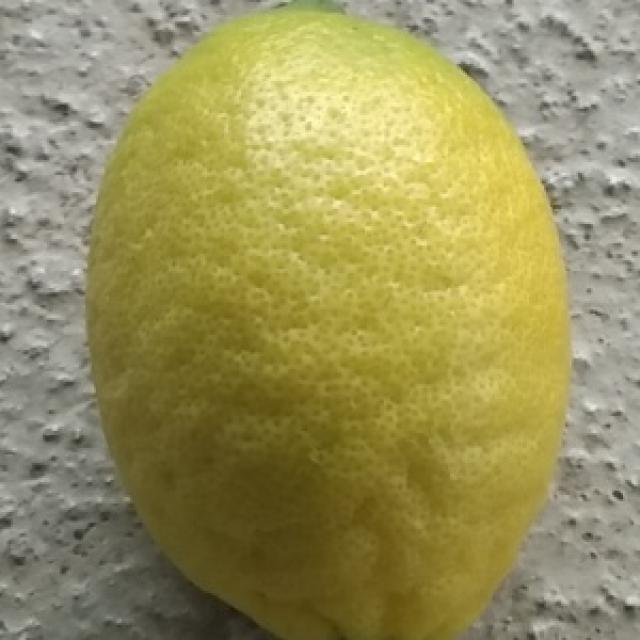Lemon: (81, 0, 572, 640)
